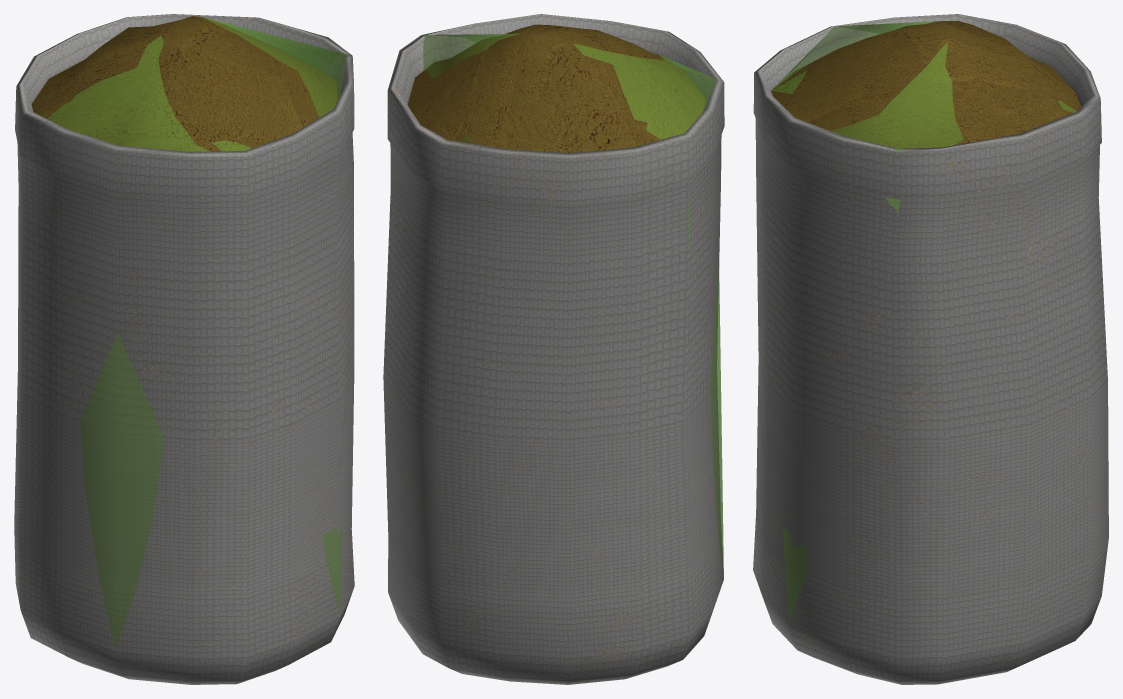
The model's file is pg_spices_bag_02.fbx.
The picture shows the model from 3 angles, left to right: view 1: azimuth 30°, elevation 25°; view 2: azimuth 150°, elevation 25°; view 3: azimuth 270°, elevation 25°; orthographic projection.
Visible parts, largest first — view 1: p_spices_bag_02_a_LOD0, p_spices_bag_02_a_col; view 2: p_spices_bag_02_a_LOD0, p_spices_bag_02_a_col; view 3: p_spices_bag_02_a_LOD0, p_spices_bag_02_a_col.
Part boxes in pixels (bbox=[...]): p_spices_bag_02_a_LOD0: bbox=[14, 14, 354, 684]; p_spices_bag_02_a_col: bbox=[22, 17, 351, 648]; p_spices_bag_02_a_LOD0: bbox=[383, 14, 724, 684]; p_spices_bag_02_a_col: bbox=[422, 33, 723, 577]; p_spices_bag_02_a_LOD0: bbox=[753, 14, 1108, 684]; p_spices_bag_02_a_col: bbox=[771, 21, 1076, 622].
Size of what is drawn, in the model's own units: 24.06 by 45.93 by 24.56.
